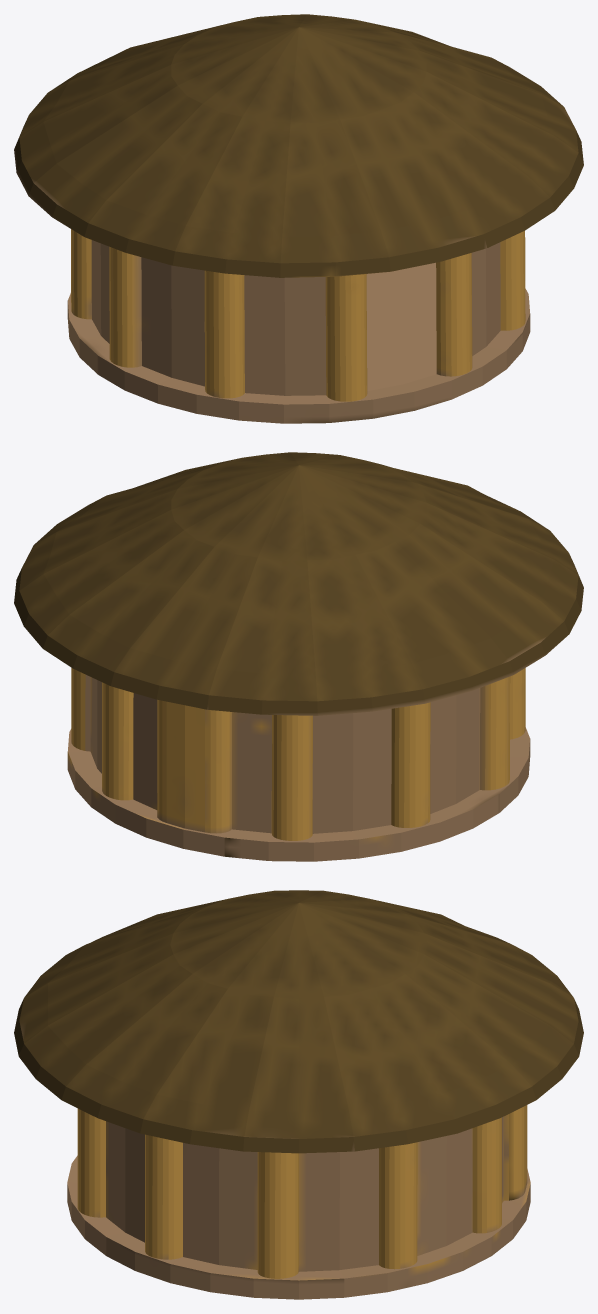
File: Hut.fbx
3 views of the same model, one above another, from view 1: azimuth 30°, elevation 25°; view 2: azimuth 150°, elevation 25°; view 3: azimuth 270°, elevation 25° (orthographic).
Visible parts, largest first — view 1: Hut; view 2: Hut; view 3: Hut.
Boxes of the visible parts, x1,y1,x2,y2 form: Hut: (14, 14, 583, 423); Hut: (14, 452, 583, 861); Hut: (14, 890, 583, 1299).
Size of the model in its own units: 749 by 433 by 749.
1 material, 1 textured.
